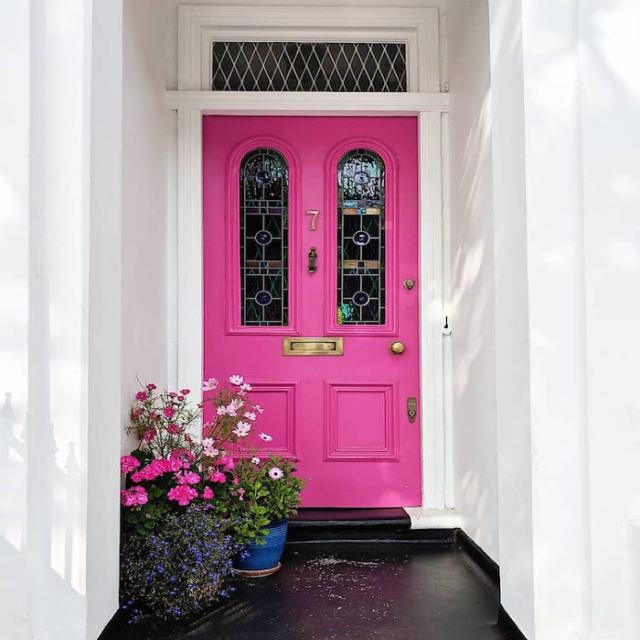door-knob: (389, 341, 404, 354)
